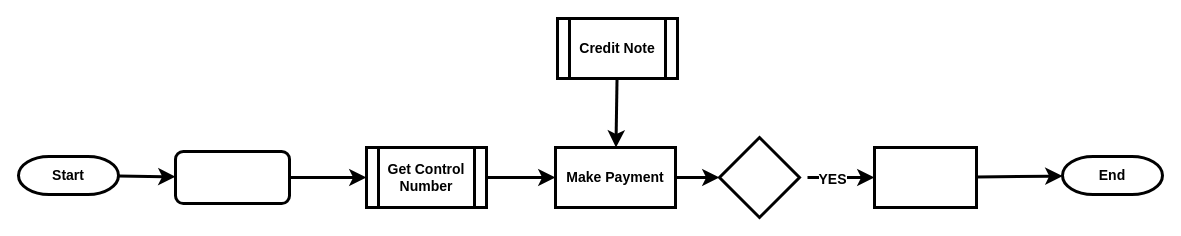
Image size: 1181x236. Some labels were removed from this diagram. Here are the shapes that lost their labels. From the top down, the centre of each, then its label:
point (232, 177): Generate Bill
point (759, 177): Paid?
point (925, 177): Create Reservation
